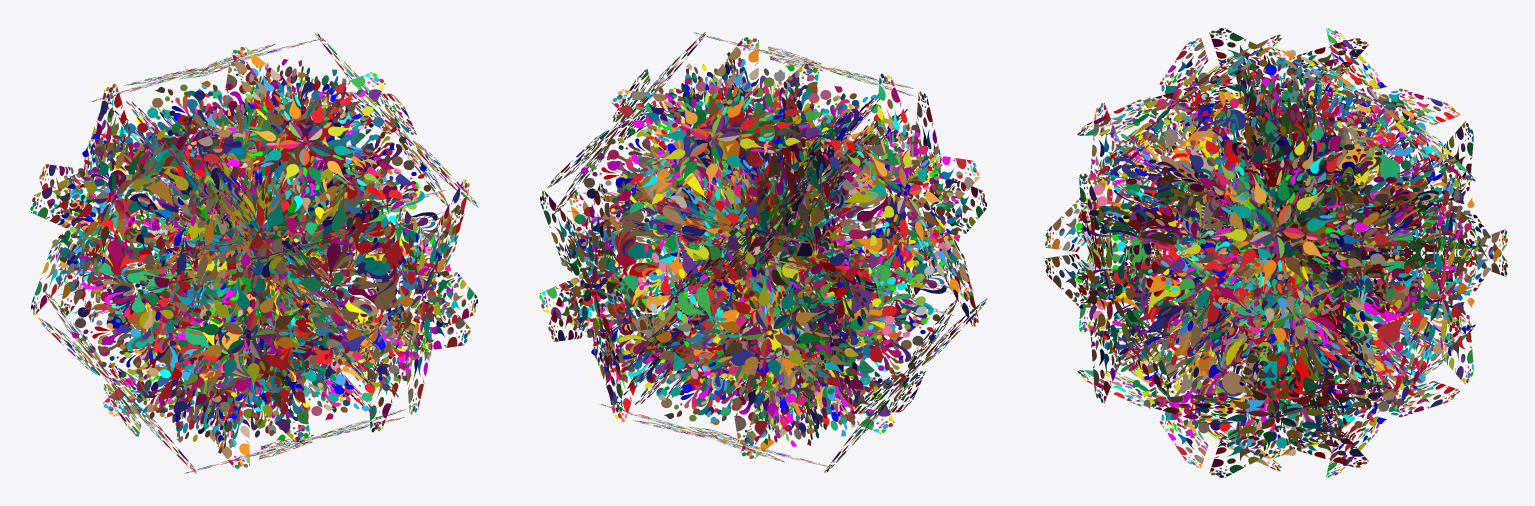
Rendered from 25InvertedSnubDodecadodecahedron.gltf.
3 renders of one model, left to right at view 1: azimuth 30°, elevation 25°; view 2: azimuth 150°, elevation 25°; view 3: azimuth 270°, elevation 25°, orthographic.
Parts seen in each view (by area): view 1: 7InvertedSnubDodecadodecahedron; view 2: 7InvertedSnubDodecadodecahedron; view 3: 7InvertedSnubDodecadodecahedron.
Boxes of the visible parts, bbox=[...] form: 7InvertedSnubDodecadodecahedron: bbox=[30, 33, 478, 473]; 7InvertedSnubDodecadodecahedron: bbox=[539, 32, 987, 472]; 7InvertedSnubDodecadodecahedron: bbox=[1045, 28, 1507, 477].
Bounding box in the file's own units: 1.69 × 1.69 × 1.69.
1 material, 1 textured.
